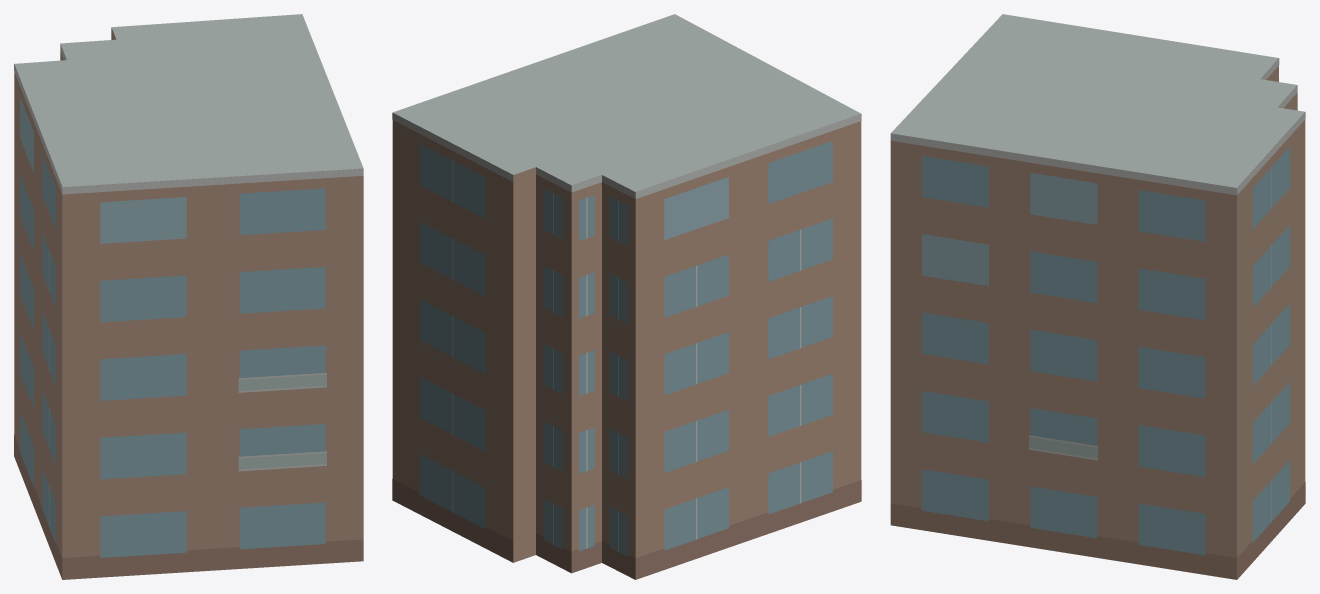
File: survey-upis-32657229.glb
3 views of the same model, side by side, from view 1: azimuth 30°, elevation 25°; view 2: azimuth 150°, elevation 25°; view 3: azimuth 270°, elevation 25° (orthographic).
Parts seen in each view (by area): view 1: survey-upis-32657229.tmp; view 2: survey-upis-32657229.tmp; view 3: survey-upis-32657229.tmp.
Part boxes in pixels (x1,y1,x2,y2): survey-upis-32657229.tmp: (14,14,363,579); survey-upis-32657229.tmp: (392,14,861,579); survey-upis-32657229.tmp: (890,14,1305,579).
Bounding box in the file's own units: 12.49 × 13.1 × 12.58.
